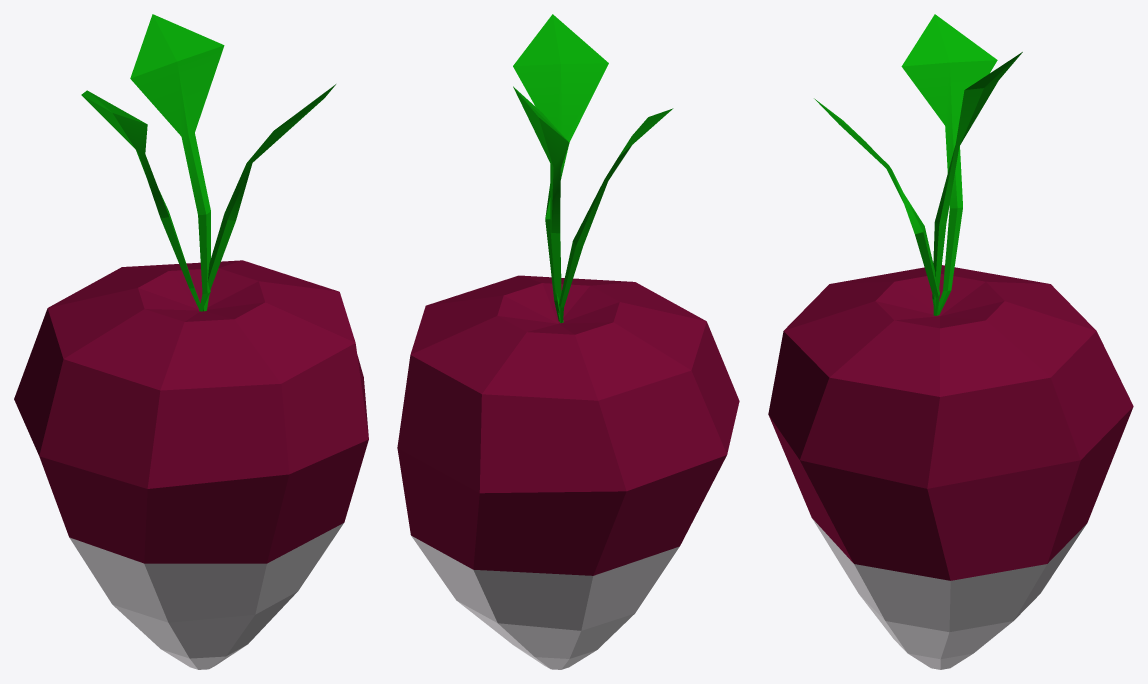
Rendered from Raddish.fbx.
3 views of the same model, side by side, from view 1: azimuth 30°, elevation 25°; view 2: azimuth 150°, elevation 25°; view 3: azimuth 270°, elevation 25° (orthographic). The views are drawn at different scales.
Visible parts, largest first — view 1: pCone1, pCone8, pCone9, pCone10; view 2: pCone1, pCone10, pCone8, pCone9; view 3: pCone1, pCone9, pCone8, pCone10.
Part boxes in pixels (x1,y1,x2,y2): pCone1: (14, 260, 368, 669); pCone8: (130, 14, 224, 311); pCone9: (81, 90, 200, 309); pCone10: (203, 84, 335, 311); pCone1: (397, 275, 739, 669); pCone10: (513, 14, 608, 321); pCone8: (513, 86, 569, 322); pCone9: (559, 108, 673, 322); pCone1: (768, 265, 1133, 669); pCone9: (901, 14, 997, 314); pCone8: (932, 52, 1022, 315); pCone10: (814, 98, 939, 315).
Bounding box in the file's own units: 0.4888 × 0.8967 × 0.4855.
